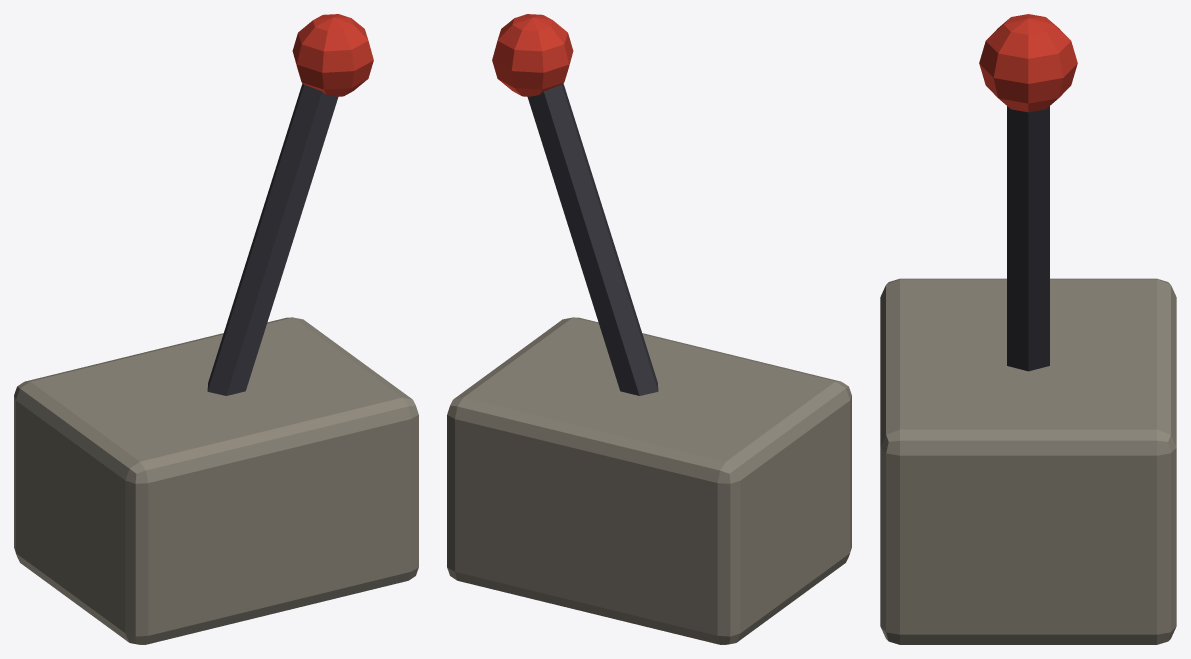
File: prop_lever.glb
3 renders of one model, left to right at view 1: azimuth 30°, elevation 25°; view 2: azimuth 150°, elevation 25°; view 3: azimuth 270°, elevation 25°, orthographic. The views are drawn at different scales.
Visible parts, largest first — view 1: base, stick, knob; view 2: base, stick, knob; view 3: base, stick, knob.
Boxes of the visible parts, x1,y1,x2,y2 form: base: (14,317,418,644); stick: (207,83,338,395); knob: (292,14,373,96); base: (447,317,851,644); stick: (527,83,658,395); knob: (492,14,573,96); base: (880,278,1176,644); stick: (1007,106,1049,371); knob: (979,14,1077,112).
Size of the model in its own units: 0.41 by 0.69 by 0.3.
